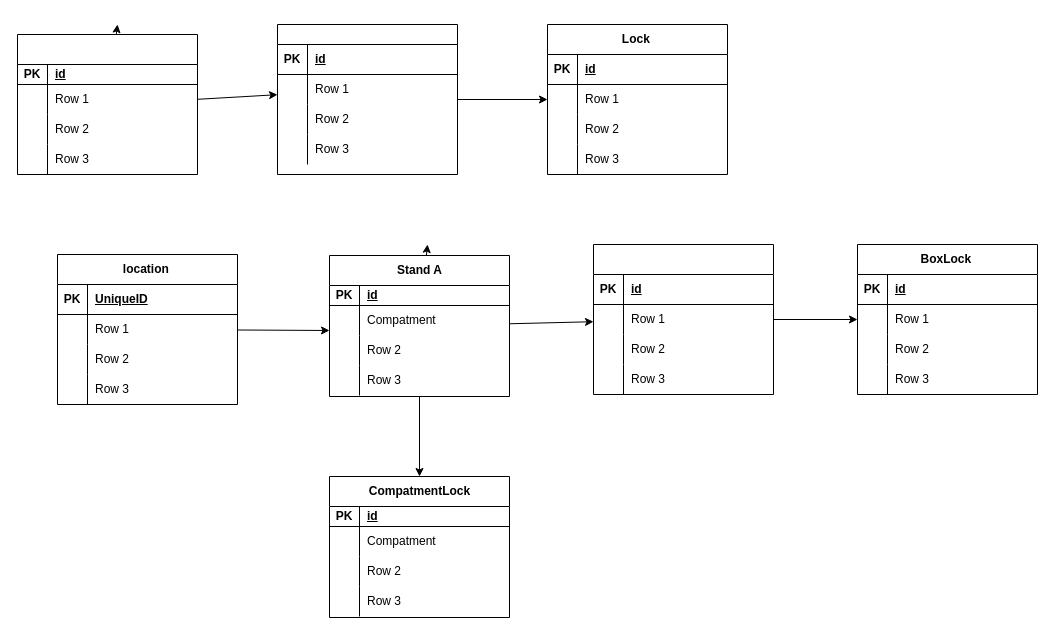
Image size: 1055x635. Some labels were removed from this diagram. Here are the shapes that lost their labels. From the top down, the box of each, then its label:
(16, 34, 198, 174): Stand
(276, 24, 458, 174): Box
(592, 244, 774, 394): Box A
